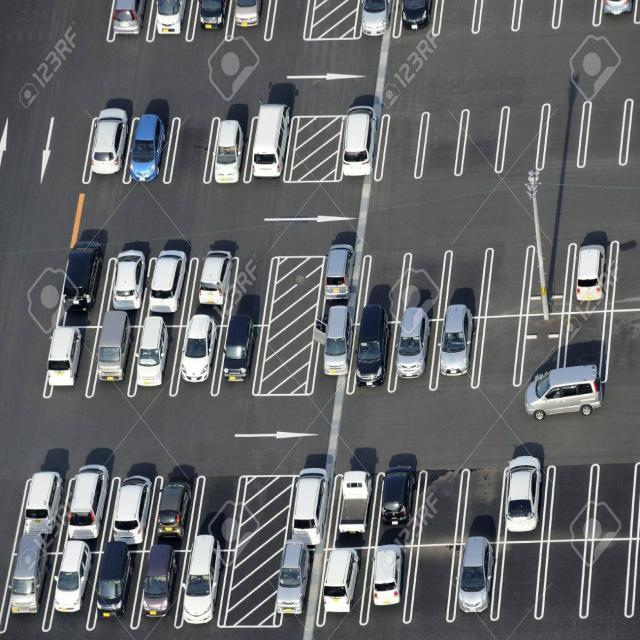libre: (380, 95, 635, 192), (373, 236, 555, 306), (508, 544, 634, 620), (484, 316, 638, 371), (549, 456, 640, 540)
ocupado: (1, 460, 231, 636), (37, 228, 255, 393), (262, 458, 423, 633), (313, 235, 476, 389), (78, 97, 175, 187), (208, 97, 295, 193), (103, 0, 271, 46), (495, 442, 548, 541), (450, 533, 501, 623), (334, 98, 383, 184), (562, 232, 609, 311), (357, 0, 439, 41)
